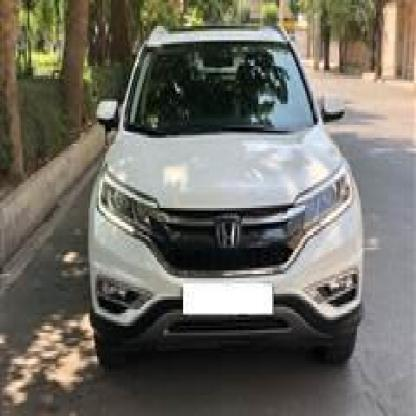Car: (85, 15, 371, 380)
